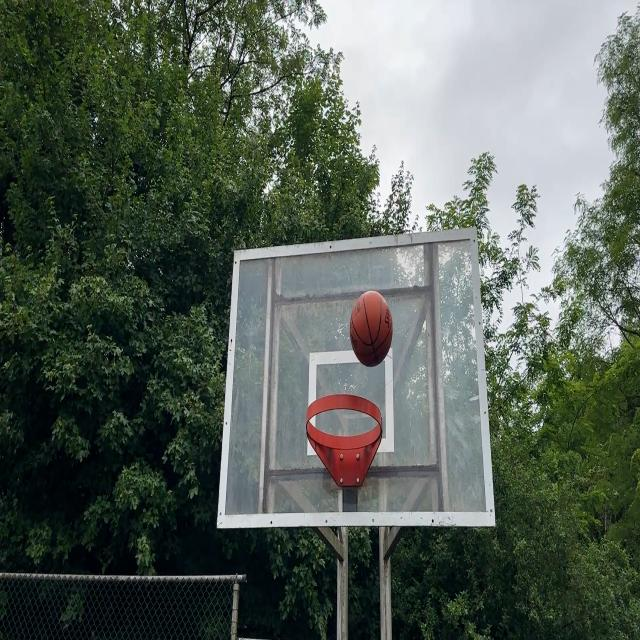Basketball: (348, 294, 392, 369)
